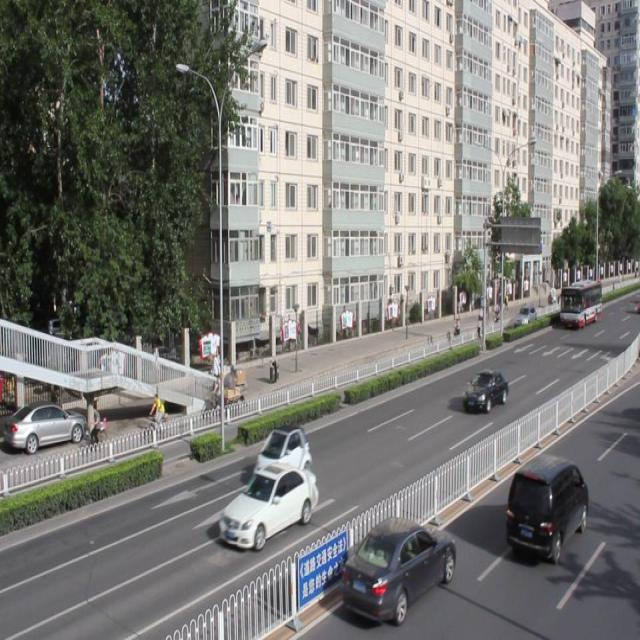car: (341, 514, 455, 622), (505, 452, 588, 560), (217, 458, 316, 548), (251, 422, 311, 485), (460, 366, 507, 413)
